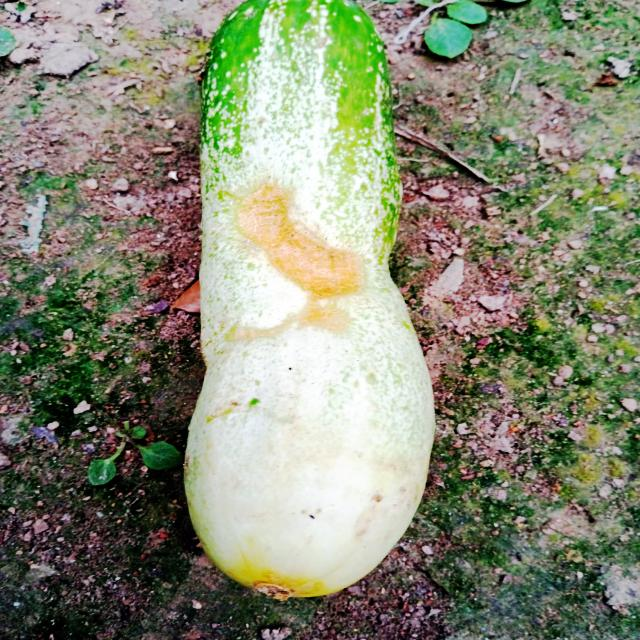Belly-Rot: (216, 178, 374, 352)
